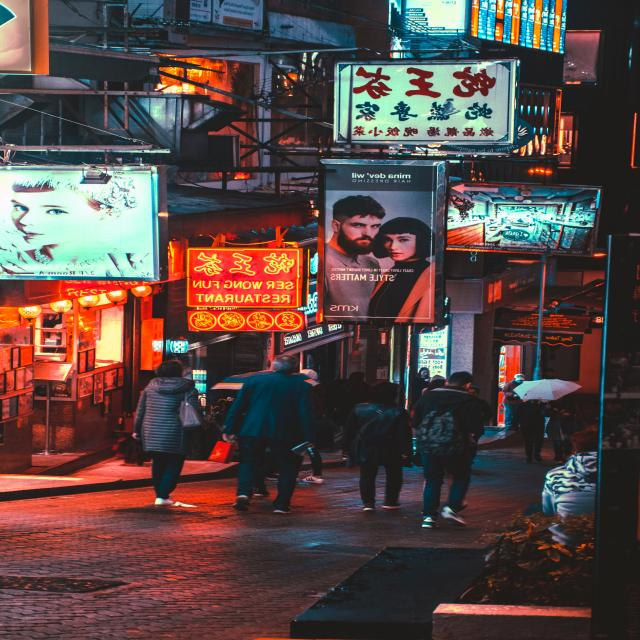adult: (220, 358, 321, 519), (410, 368, 487, 532), (130, 359, 202, 506), (343, 383, 411, 511), (545, 392, 579, 464), (503, 374, 525, 429)
